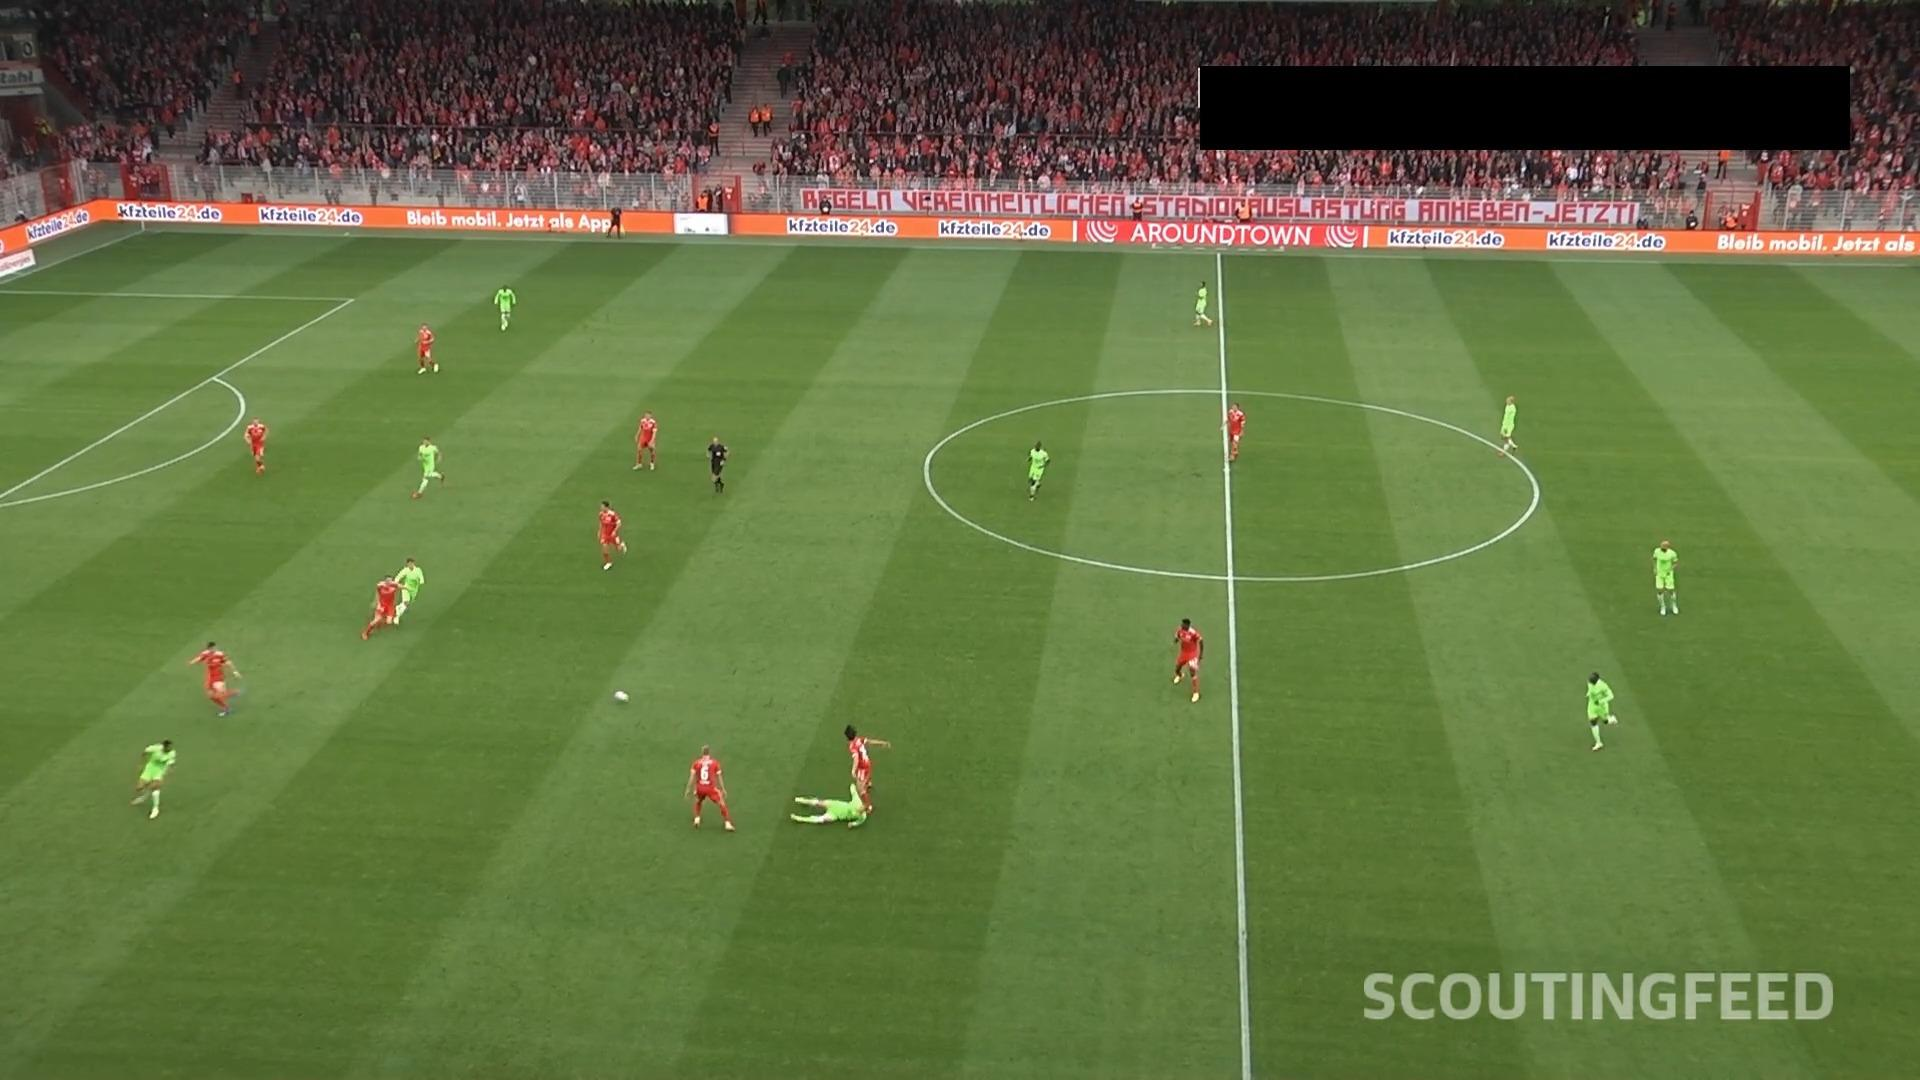ball: (612, 687, 632, 705)
